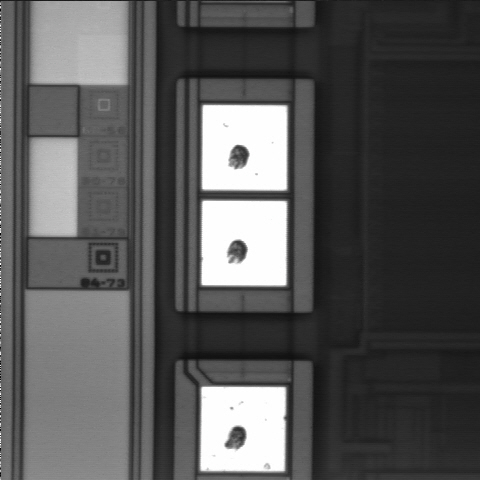pad: (202, 105, 287, 190), (202, 201, 287, 286), (201, 387, 286, 471)
